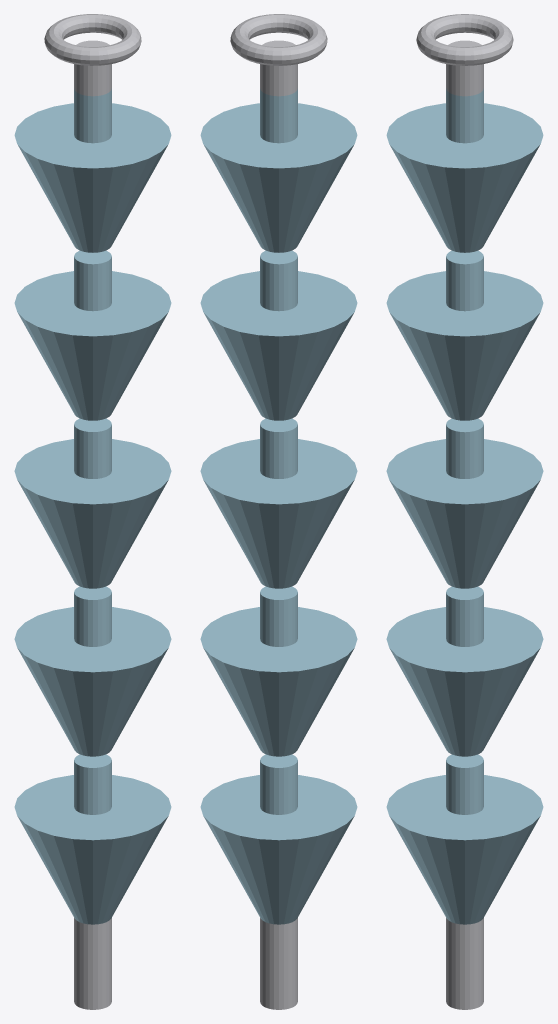
The model's file is Cadena_682mm.fbx.
3 views of the same model, side by side, from view 1: azimuth 30°, elevation 25°; view 2: azimuth 150°, elevation 25°; view 3: azimuth 270°, elevation 25° (orthographic).
Parts seen in each view (by area): view 1: Cadena_682mm; view 2: Cadena_682mm; view 3: Cadena_682mm.
Part boxes in pixels (left/top/right/bottom): Cadena_682mm: left=14, top=14, right=171, bottom=1009; Cadena_682mm: left=200, top=14, right=357, bottom=1009; Cadena_682mm: left=386, top=14, right=543, bottom=1009.
Bounding box in the file's own units: 10 × 68.2 × 10.
